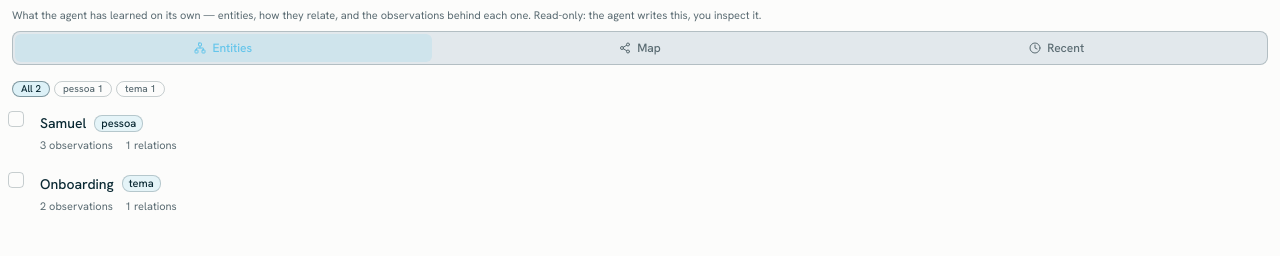
the knowledge graph's multi-select › takes a row back off the selection on a second tick
Click the checkbox named "Select Samuel": {"x": 16, "y": 119} x1=8 y1=111 x2=24 y2=127
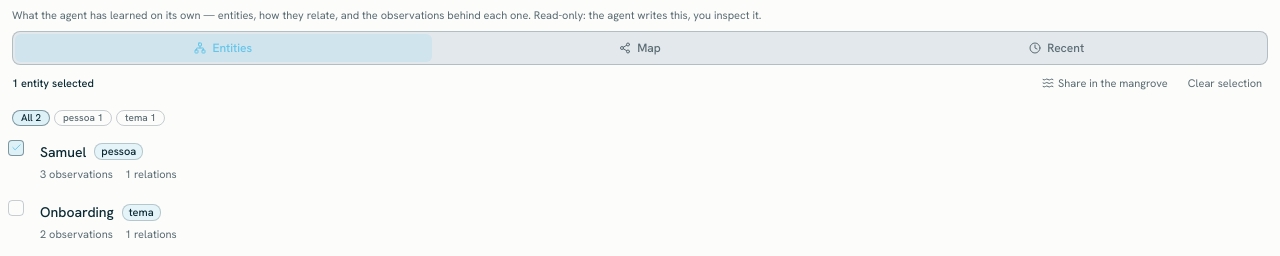
Click the checkbox named "Select Samuel": {"x": 16, "y": 148} x1=8 y1=140 x2=24 y2=156
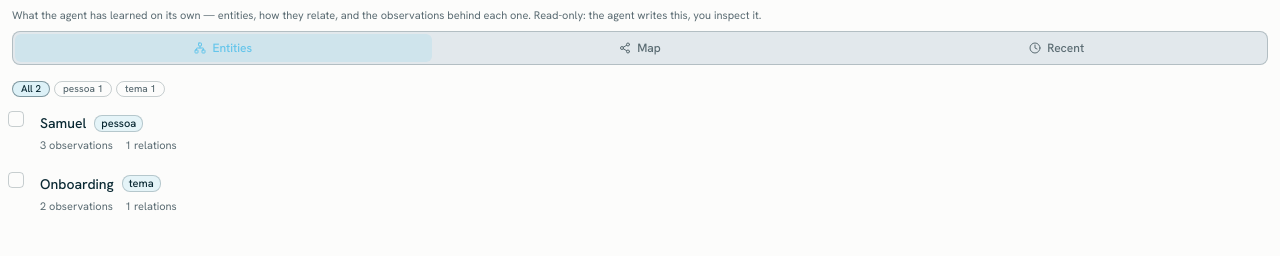
expect the text "1 entity selected" is gone: met
